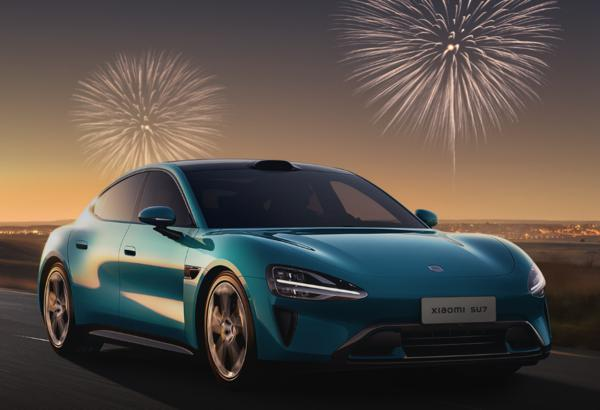su7: (33, 158, 551, 383)
